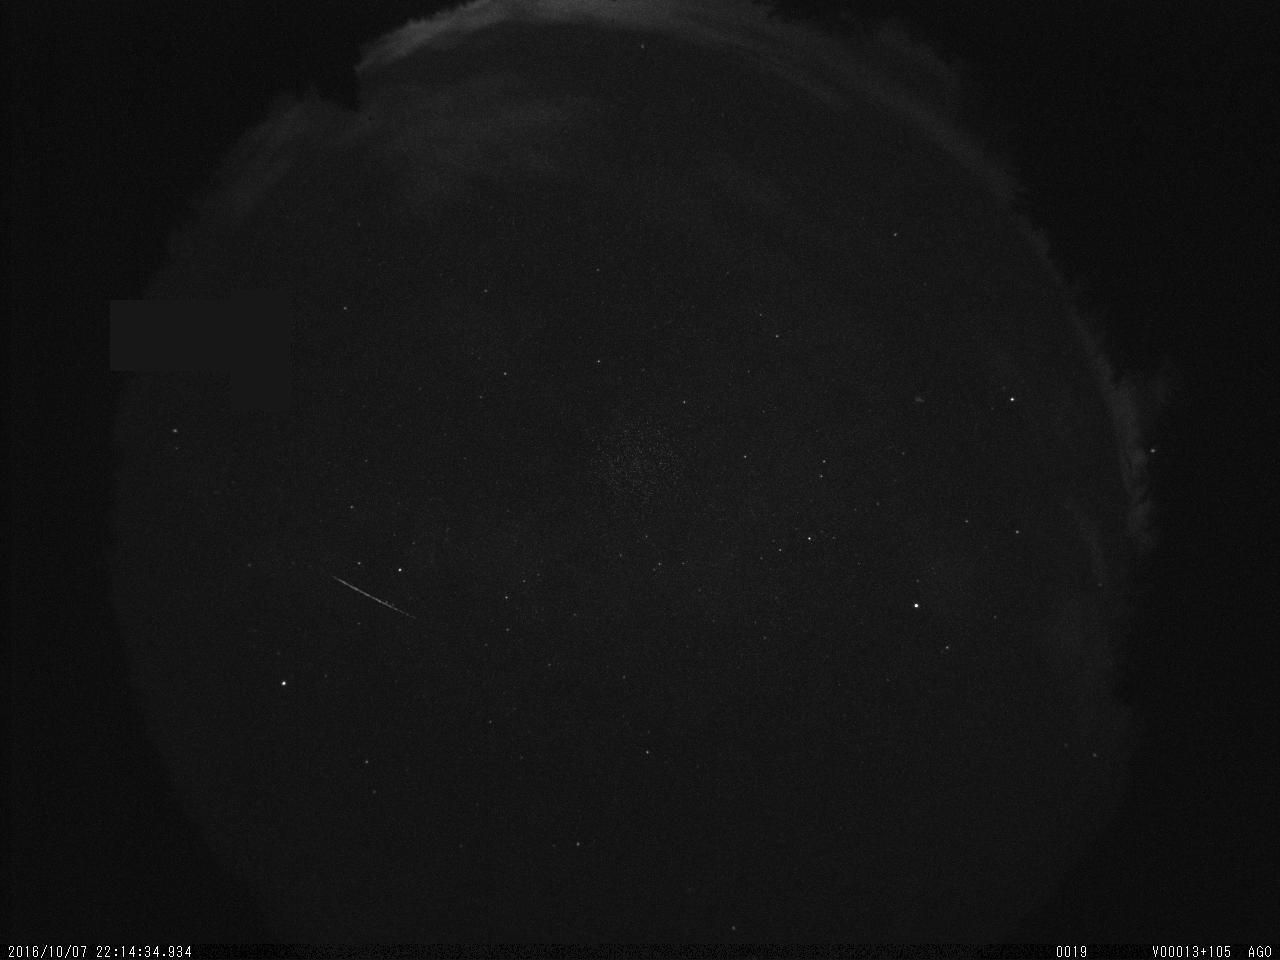Meteor: (328, 569, 426, 634)
